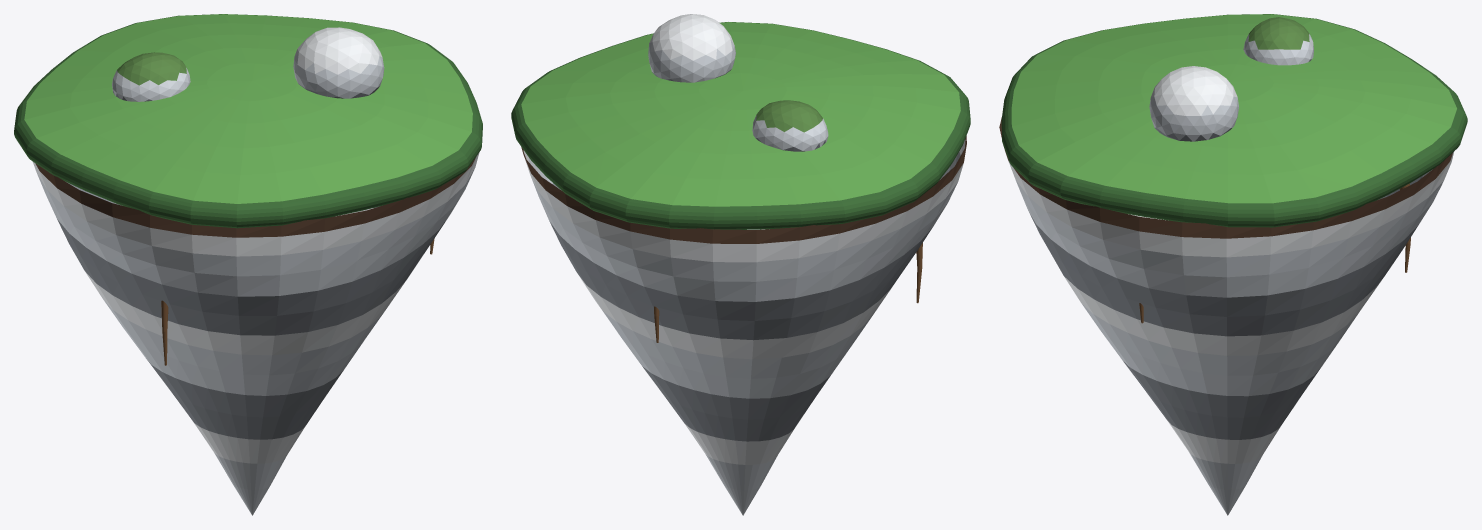
The model's file is SatelliteRock.obj.
3 views of the same model, side by side, from view 1: azimuth 30°, elevation 25°; view 2: azimuth 150°, elevation 25°; view 3: azimuth 270°, elevation 25° (orthographic). The views are drawn at different scales.
Bounding box in the file's own units: 8.2 × 9.23 × 8.2.
